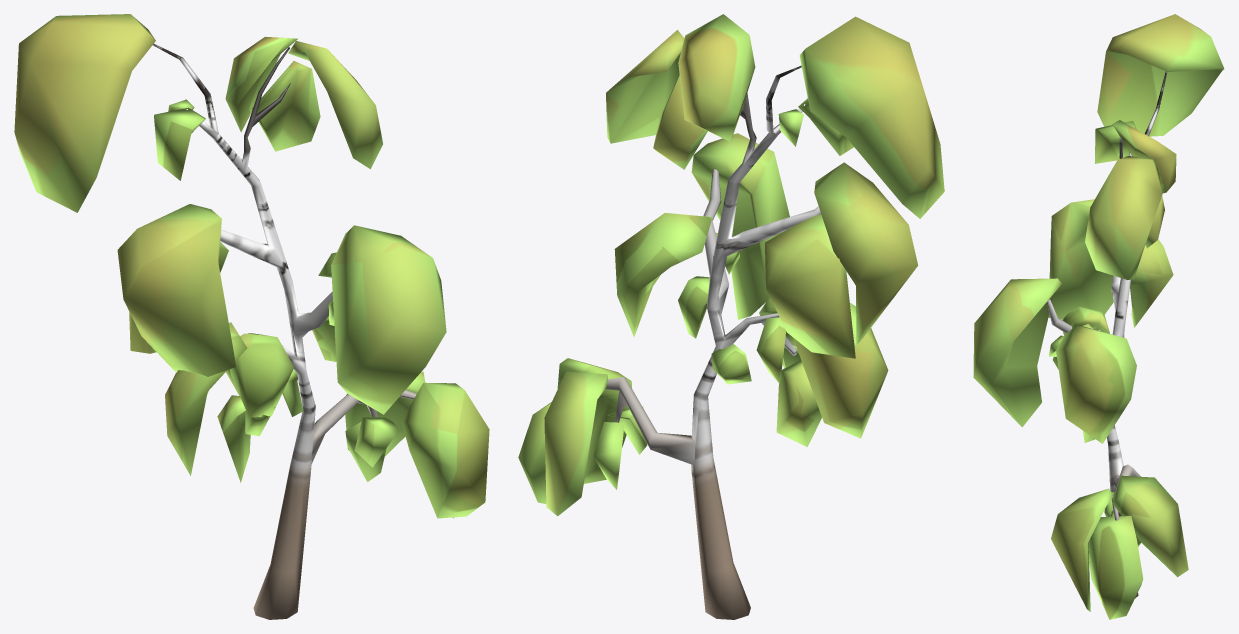
File: tree_tochno_berezka.fbx
3 renders of one model, left to right at view 1: azimuth 30°, elevation 25°; view 2: azimuth 150°, elevation 25°; view 3: azimuth 270°, elevation 25°, orthographic. The views are drawn at different scales.
Parts seen in each view (by area): view 1: berezka_LOD0; view 2: berezka_LOD0; view 3: berezka_LOD0.
Boxes of the visible parts, bbox=[...] form: berezka_LOD0: bbox=[14, 14, 489, 619]; berezka_LOD0: bbox=[518, 14, 944, 619]; berezka_LOD0: bbox=[973, 14, 1224, 619].
Size of what is drawn, in the model's own units: 5228 by 7307 by 3282.
